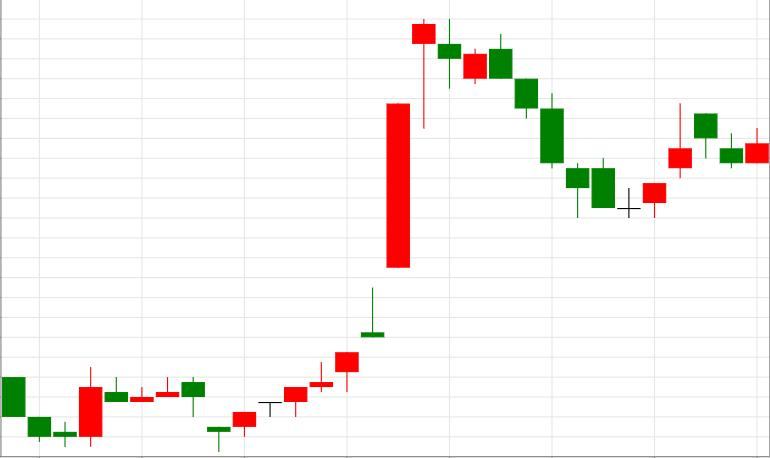three_black_crows_fall: (233, 17, 563, 436)
